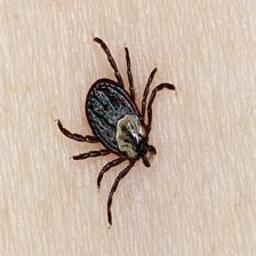Ixodes scapularis: (58, 31, 177, 226)
